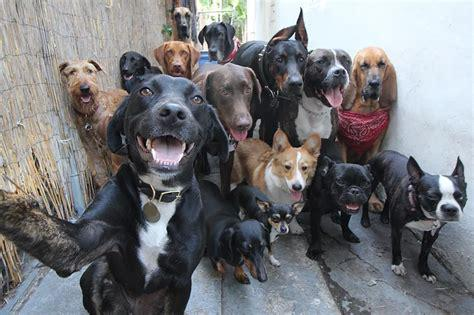dog: (1, 74, 227, 315), (361, 150, 466, 283), (235, 8, 307, 147), (233, 129, 320, 232), (58, 59, 128, 185), (335, 47, 397, 159), (200, 180, 267, 282), (306, 156, 372, 259), (234, 184, 304, 266), (193, 63, 260, 141), (296, 49, 351, 141), (198, 22, 239, 66), (154, 41, 198, 80), (119, 51, 162, 90), (171, 1, 193, 40)
